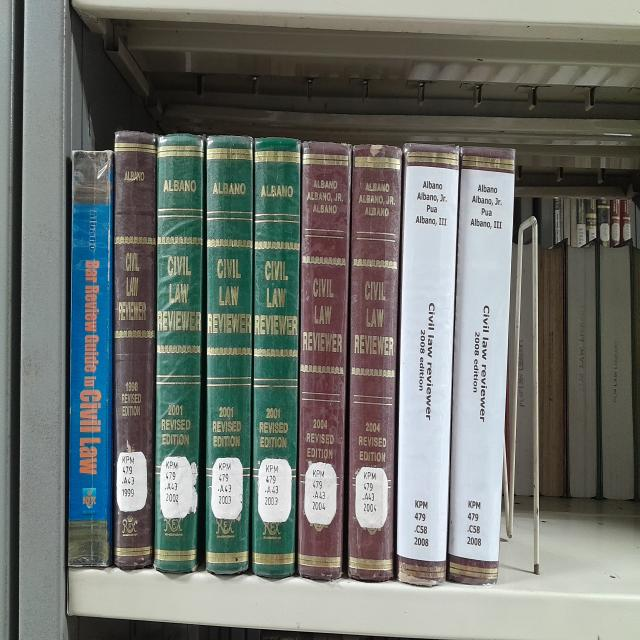book: (446, 146, 515, 584), (395, 143, 459, 586), (353, 144, 399, 578), (156, 136, 200, 574), (302, 144, 346, 574), (69, 151, 114, 565), (209, 140, 251, 571), (256, 138, 297, 576), (115, 132, 154, 568)
